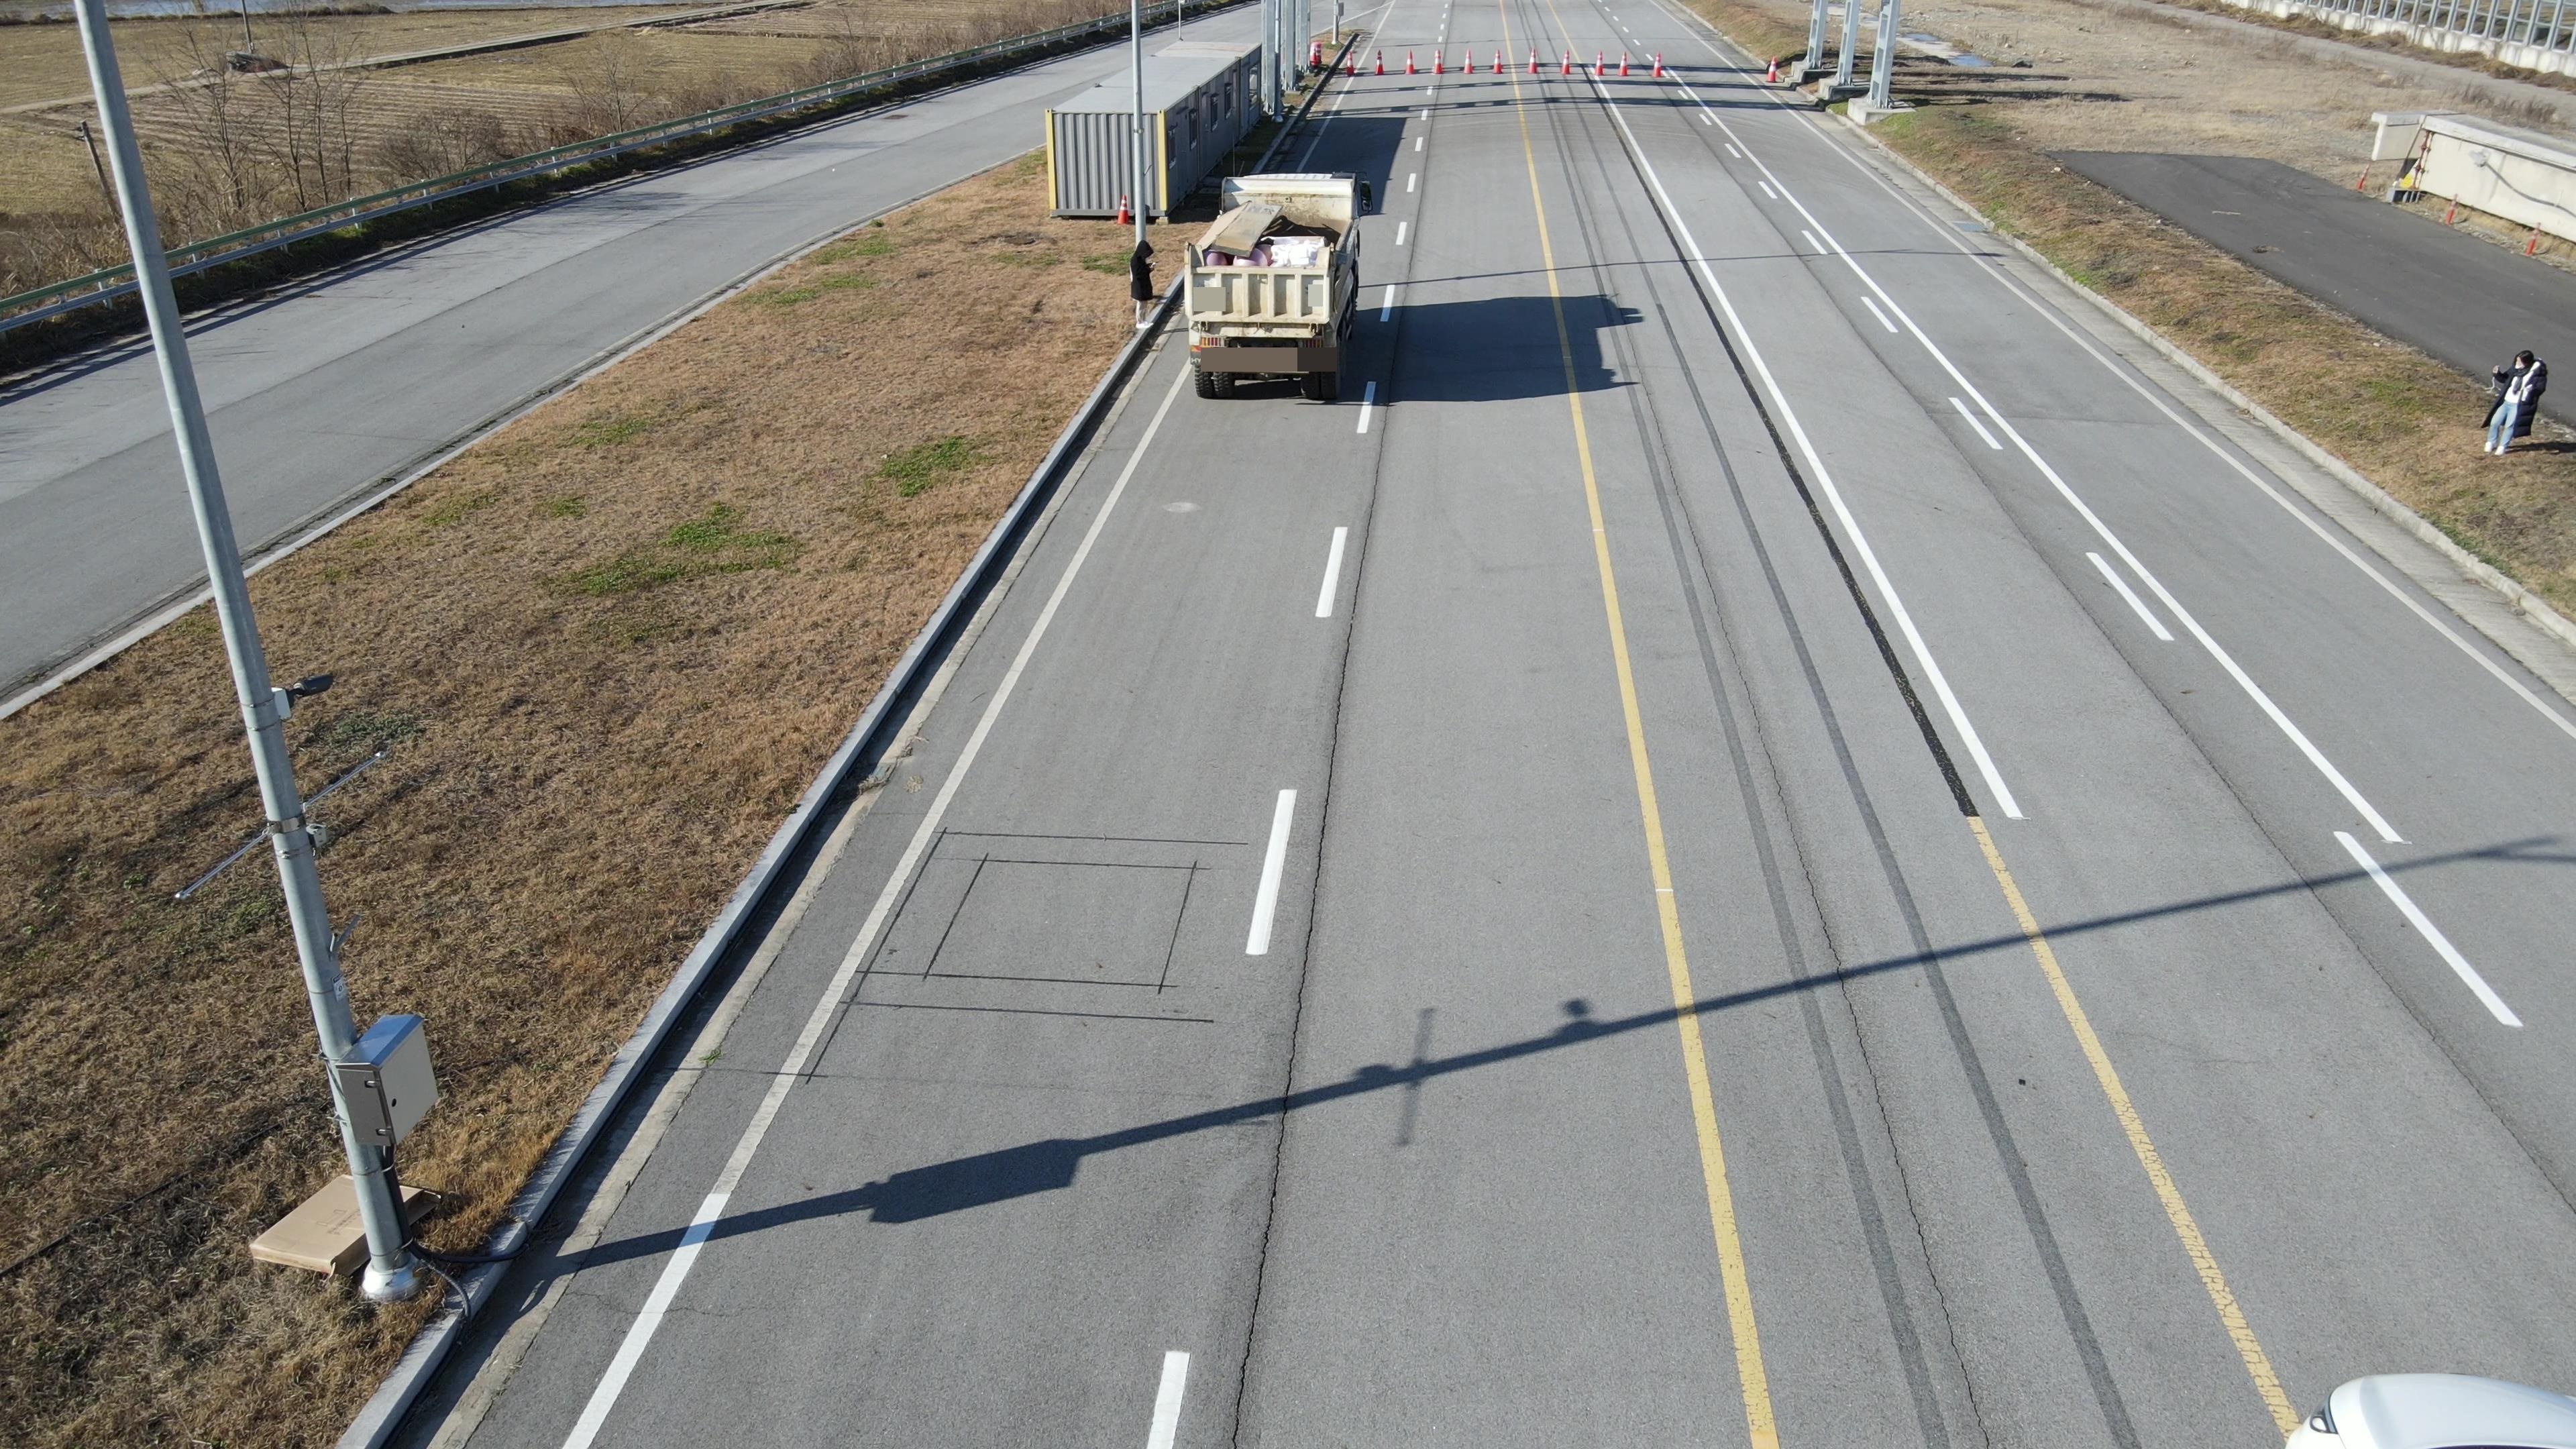불법차량: (1182, 170, 1373, 400)
